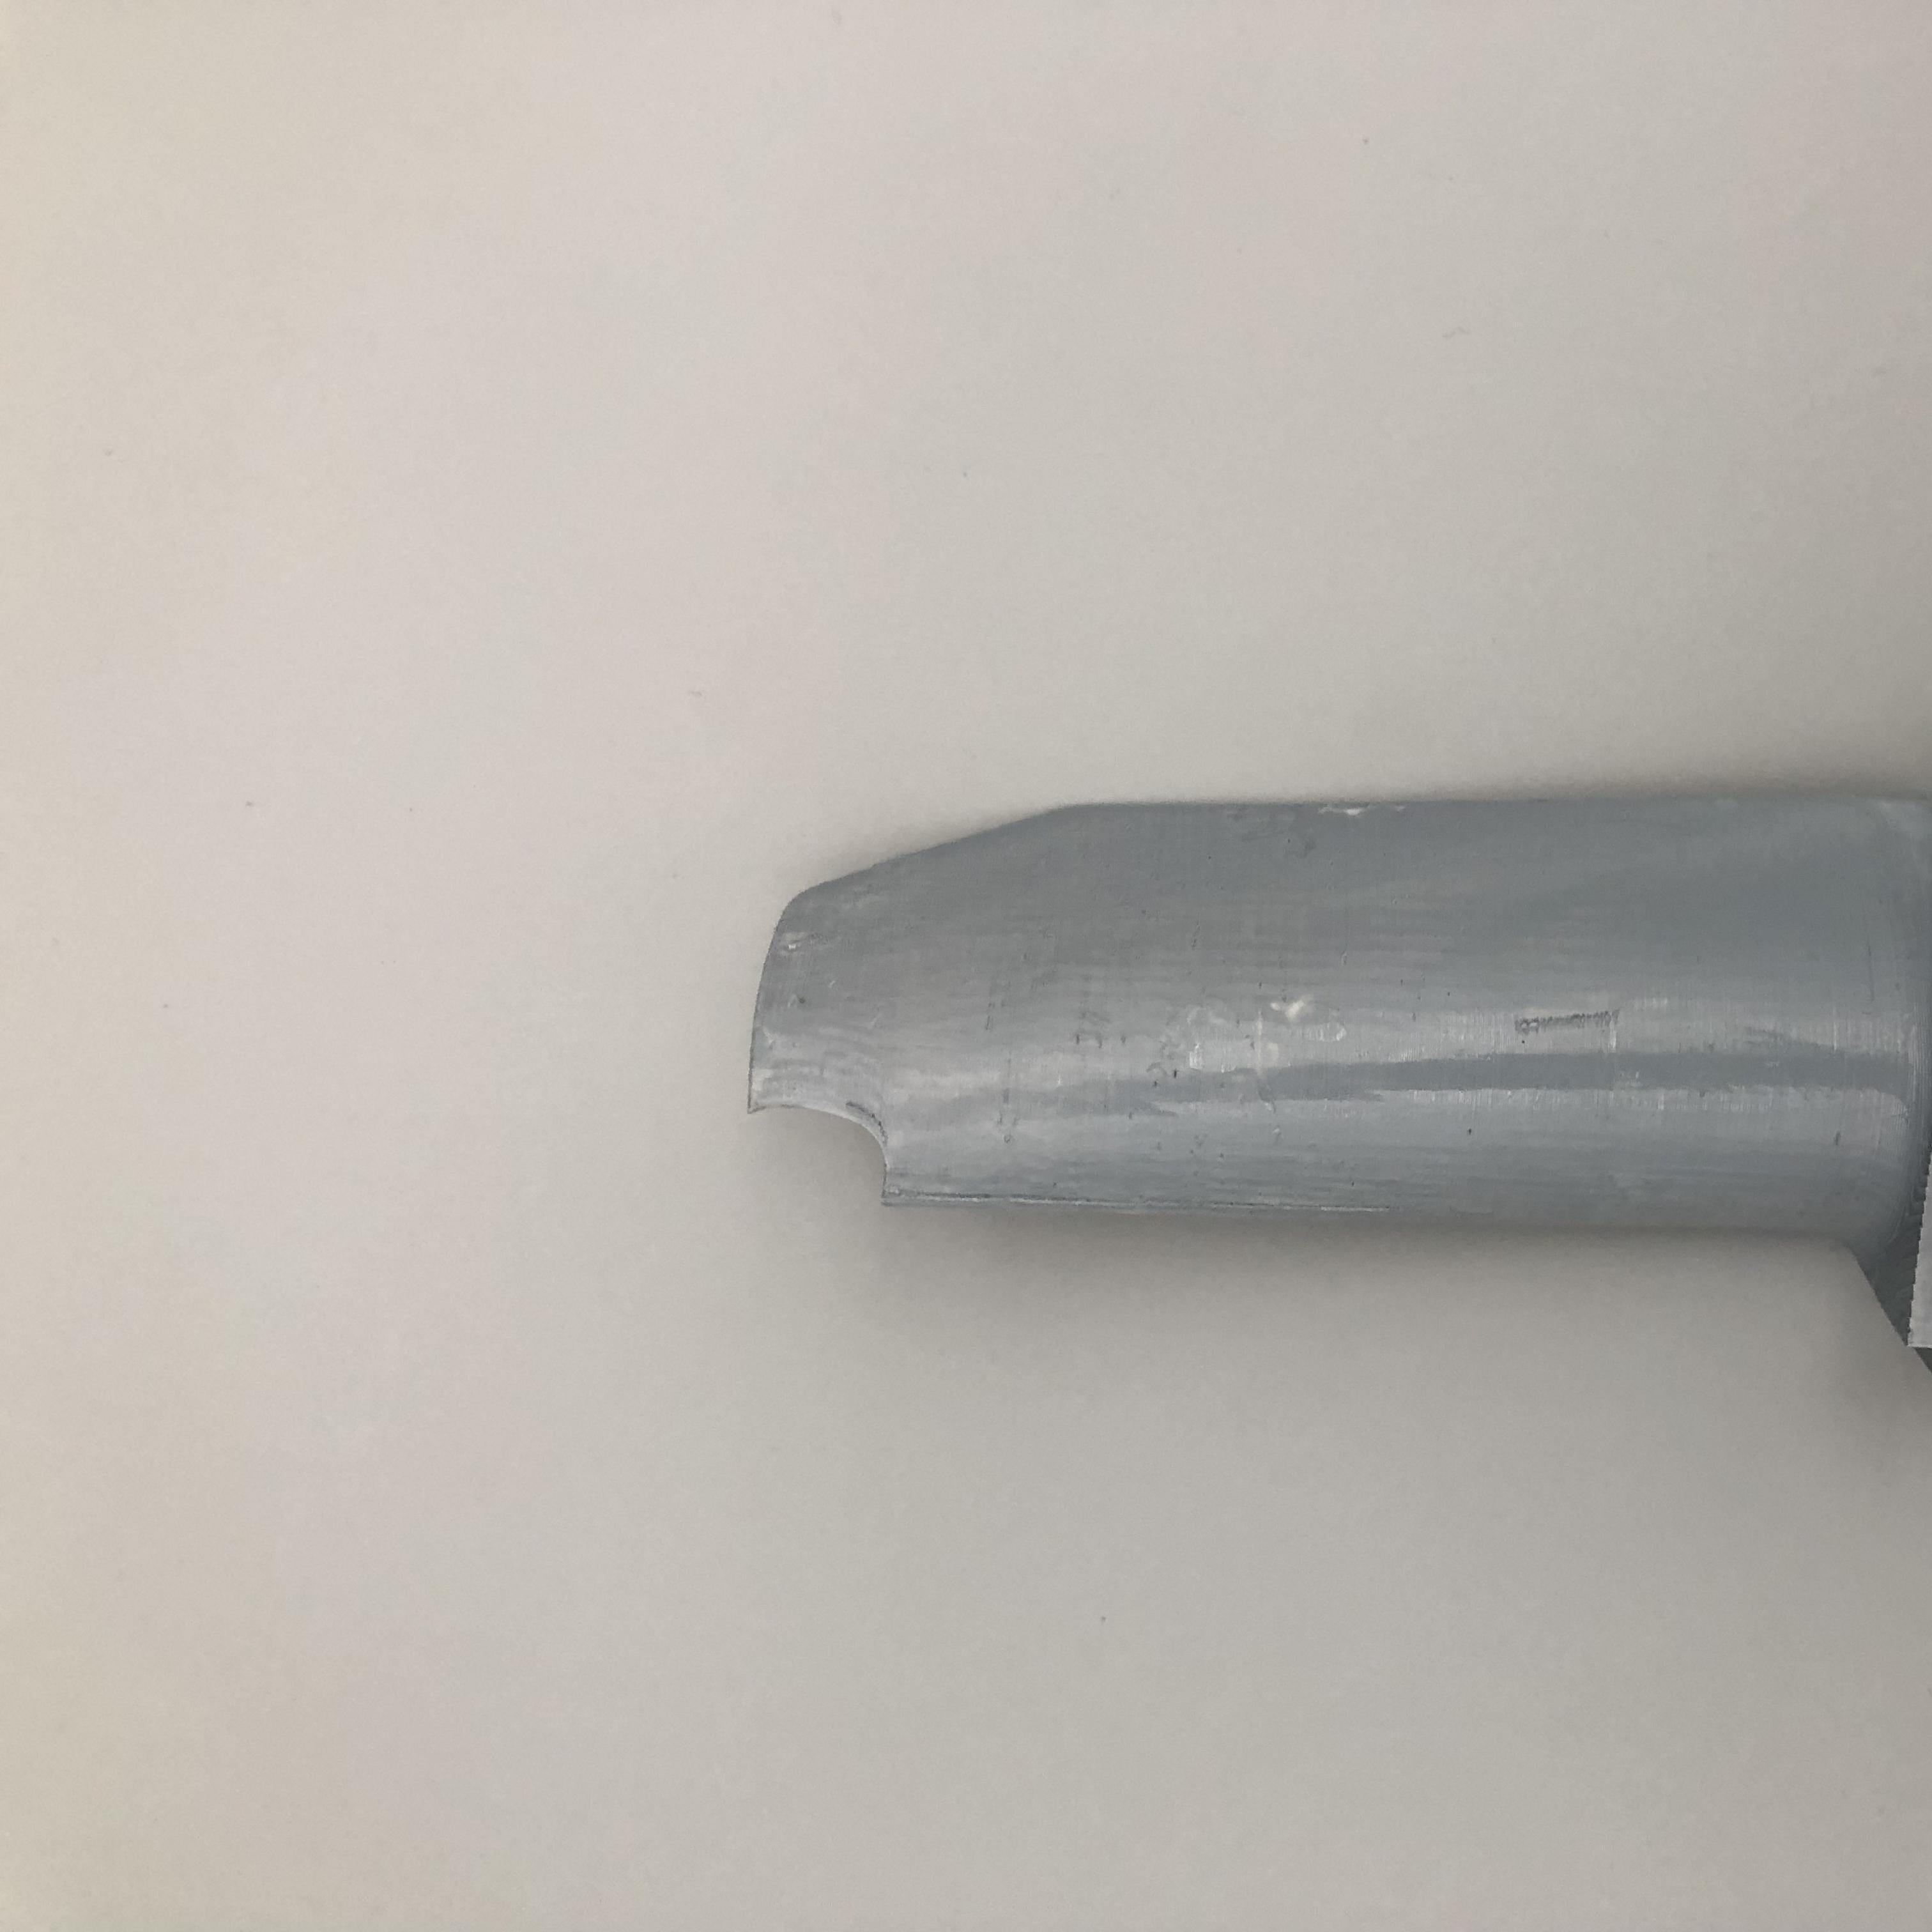fracture: (745, 1077, 955, 1210)
